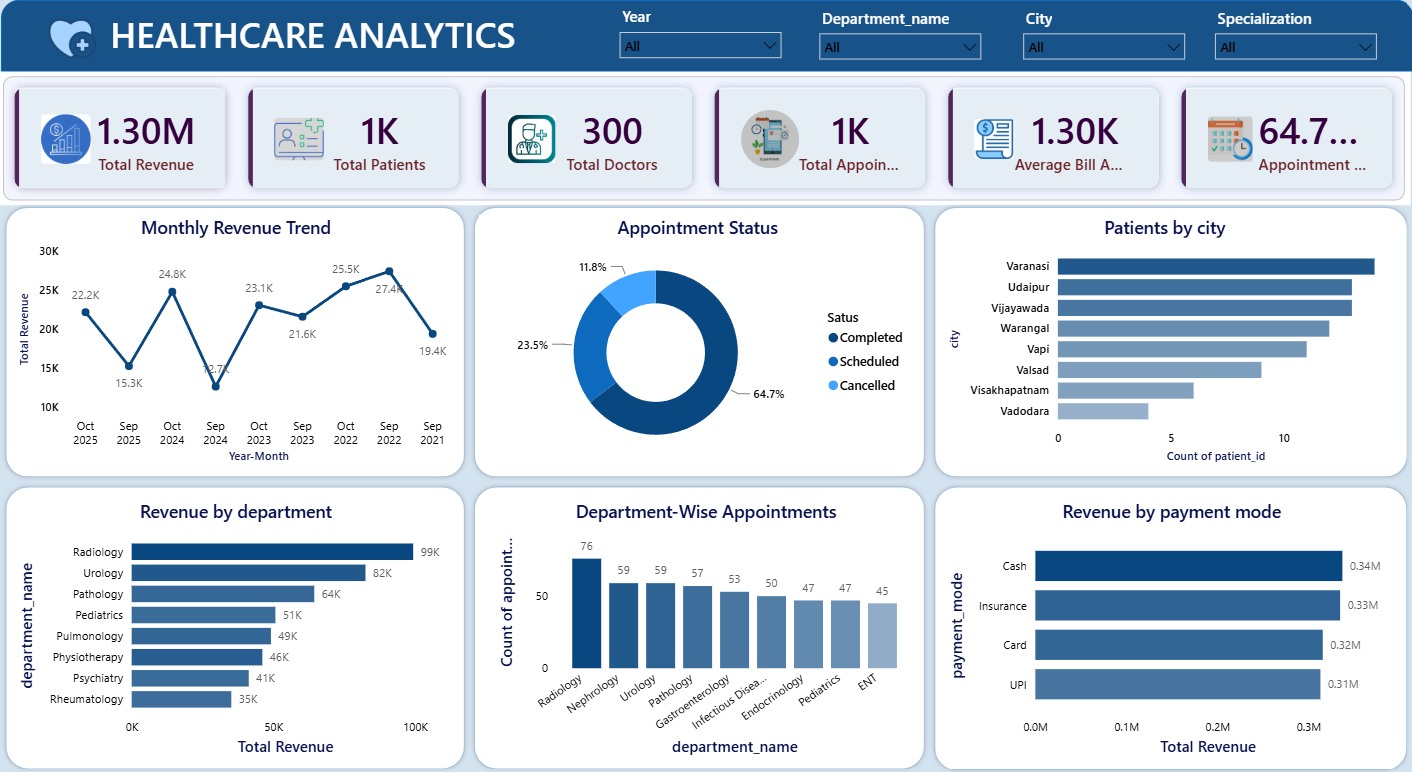

The page's visual inventory and layout, read from the dashboard file:
{"tool":"powerbi","page":{"name":"Hospital_Overview","canvas":[1500,820],"ordinal":0},"visuals":[{"type":"cardVisual","fields":{"Data":["Measures (2).Total Revenue","Measures (2).Total Patients","Measures (2).Total Doctors","Measures (2).Total Appointments","Measures (2).Average Bill Amount","Measures (2).Appointment Completion %"]},"box":[1.5,76.1,1495.5,141.8],"z":0},{"type":"shape","box":[4.6,0,1495.8,75.9],"z":1000},{"type":"textbox","box":[50.1,6.1,568.9,63.7],"z":2000},{"type":"shape","box":[4.5,214.9,495.5,295.5],"z":3000},{"type":"lineChart","title":"Monthly Revenue Trend","fields":{"Y":["Measures (2).Total Revenue"],"Category":["Calendar.Year-Month"]},"box":[17.9,226.9,468.7,267.2],"z":4000},{"type":"shape","box":[500,214.9,486.6,295.5],"z":5000},{"type":"donutChart","title":"Appointment Status","fields":{"Category":["healthcare_analytics_db appointments.status"],"Y":["CountNonNull(healthcare_analytics_db appointments.appointment_id)"]},"box":[510.4,226.9,462.7,267.2],"z":6000},{"type":"shape","box":[4.5,510.4,495.5,309],"z":7000},{"type":"clusteredBarChart","title":"Revenue by department","fields":{"Category":["healthcare_analytics_db departments.department_name"],"Y":["Measures (2).Total Revenue"]},"box":[17.9,528.4,468.7,276.1],"z":8000},{"type":"shape","box":[500,510.4,486.6,309],"z":9000},{"type":"clusteredColumnChart","title":"Department-Wise Appointments","fields":{"Category":["healthcare_analytics_db departments.department_name"],"Y":["CountNonNull(healthcare_analytics_db appointments.appointment_id)"]},"box":[526.9,528.4,446.3,276.1],"z":10000},{"type":"shape","box":[986.6,214.9,510.4,295.5],"z":11000},{"type":"clusteredBarChart","title":"Patients by city","fields":{"Y":["CountNonNull(healthcare_analytics_db patients.patient_id)"],"Category":["healthcare_analytics_db patients.city"]},"box":[1003,226.9,465.7,267.2],"z":12000},{"type":"shape","box":[986.9,509.9,509.9,310.7],"z":13000},{"type":"barChart","title":"Revenue by payment mode","fields":{"Category":["healthcare_analytics_db bills.payment_mode"],"Y":["Measures (2).Total Revenue"]},"box":[1003,528.4,480.6,276.1],"z":14000},{"type":"slicer","fields":{"Values":["Calendar.Year"]},"box":[648.3,1.7,191.7,63.3],"z":15000},{"type":"slicer","fields":{"Values":["healthcare_analytics_db departments.department_name"]},"box":[860,3.3,191.7,63.3],"z":16000},{"type":"slicer","fields":{"Values":["healthcare_analytics_db patients.city"]},"box":[1075,3.3,191.7,63.3],"z":17000},{"type":"slicer","fields":{"Values":["healthcare_analytics_db doctors.specialization"]},"box":[1278.3,3.3,191.7,63.3],"z":18000},{"type":"image","box":[50.1,15.2,59.2,50.1],"z":19000}]}

Visuals, with their boxes in screenshot pixels (x1, y1, x2, y2), scaled from the page's 1500x820 canvas onto the 1412x772 screenshot:
cardVisual - Measures (2).Total Revenue x Measures (2).Total Patients: rect(1, 72, 1409, 205)
shape: rect(4, 0, 1411, 71)
textbox: rect(47, 6, 583, 66)
shape: rect(4, 202, 471, 481)
"Monthly Revenue Trend" lineChart: rect(17, 214, 458, 465)
shape: rect(471, 202, 929, 481)
"Appointment Status" donutChart: rect(480, 214, 916, 465)
shape: rect(4, 481, 471, 771)
"Revenue by department" clusteredBarChart: rect(17, 497, 458, 757)
shape: rect(471, 481, 929, 771)
"Department-Wise Appointments" clusteredColumnChart: rect(496, 497, 916, 757)
shape: rect(929, 202, 1409, 481)
"Patients by city" clusteredBarChart: rect(944, 214, 1383, 465)
shape: rect(929, 480, 1409, 771)
"Revenue by payment mode" barChart: rect(944, 497, 1397, 757)
slicer - Calendar.Year: rect(610, 2, 791, 61)
slicer - healthcare_analytics_db departments.department_name: rect(810, 3, 990, 63)
slicer - healthcare_analytics_db patients.city: rect(1012, 3, 1192, 63)
slicer - healthcare_analytics_db doctors.specialization: rect(1203, 3, 1384, 63)
image: rect(47, 14, 103, 61)
